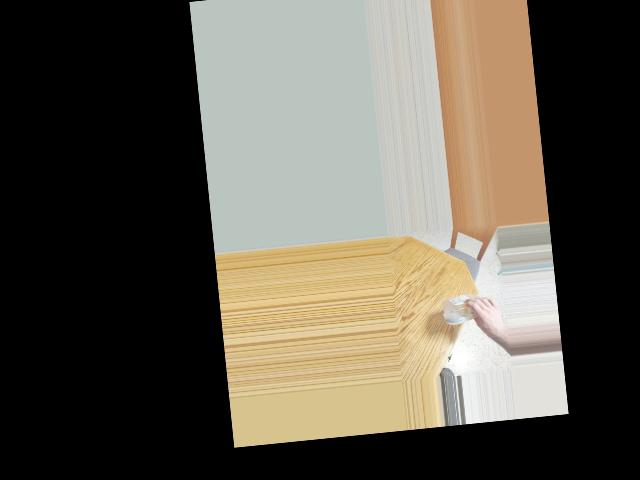cheese: (449, 291, 490, 328)
